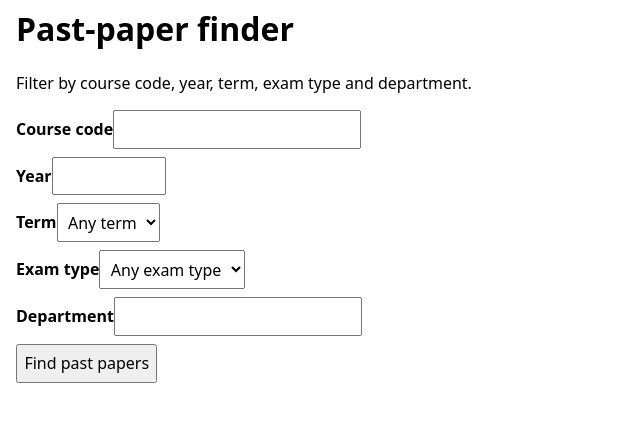
PapersPage › shows a typed error with the trace request id
What coordinates should you click on to do the following:
click the button "Find past papers"
I would click on:
 (87, 363)
Its box is [16, 344, 158, 383].
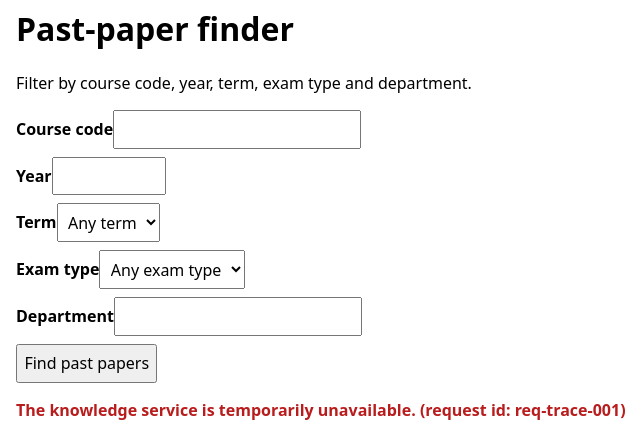
Check: the message shows "req-trace-001", box [515, 399, 620, 421]
